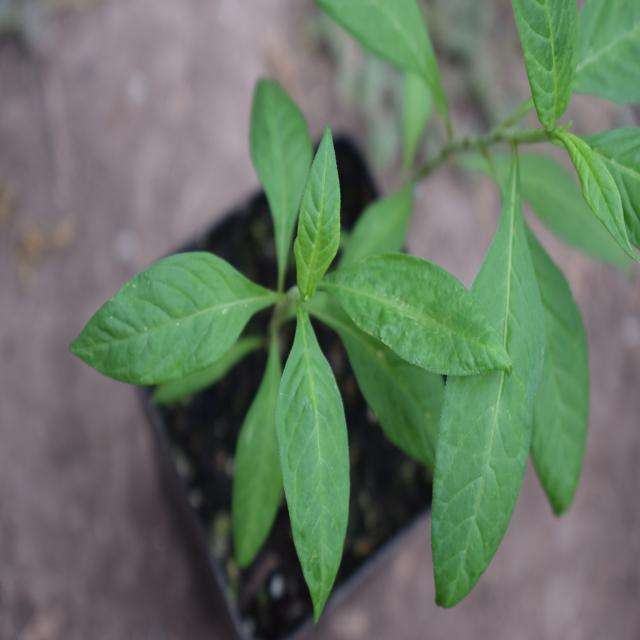white_smart_weed: (98, 94, 493, 607)
